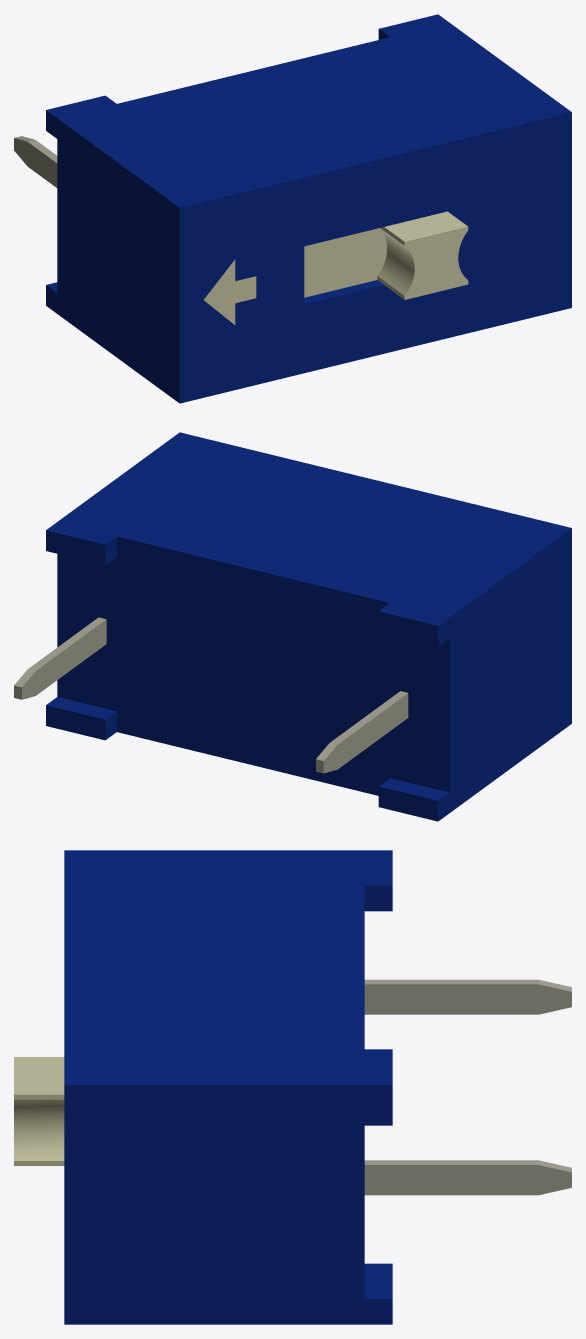
Rendered from sw_dip_spstx01_slide_9.78x4.72mm_w7.62mm_p2.54mm.glb.
3 views of the same model, one above another, from view 1: azimuth 30°, elevation 25°; view 2: azimuth 150°, elevation 25°; view 3: azimuth 270°, elevation 25° (orthographic). The views are drawn at different scales.
Parts seen in each view (by area): view 1: SW_DIP_SPSTx01_Slide_9.78x4.72mm_W7.62mm_P2.54mm; view 2: SW_DIP_SPSTx01_Slide_9.78x4.72mm_W7.62mm_P2.54mm; view 3: SW_DIP_SPSTx01_Slide_9.78x4.72mm_W7.62mm_P2.54mm.
Part boxes in pixels (left/top/right/bottom): SW_DIP_SPSTx01_Slide_9.78x4.72mm_W7.62mm_P2.54mm: left=14, top=14, right=571, bottom=403; SW_DIP_SPSTx01_Slide_9.78x4.72mm_W7.62mm_P2.54mm: left=14, top=432, right=571, bottom=821; SW_DIP_SPSTx01_Slide_9.78x4.72mm_W7.62mm_P2.54mm: left=14, top=850, right=571, bottom=1324.
Bounding box in the file's own units: 9.9 × 4.72 × 9.95.
